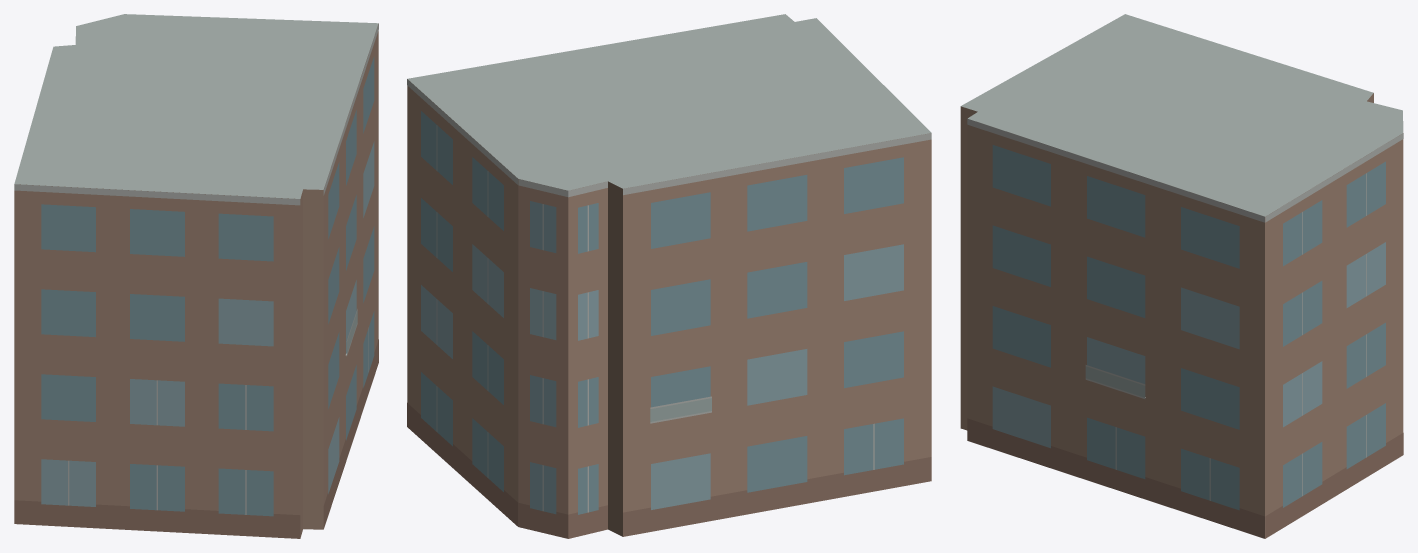
The model's file is survey-upis-32847277.glb.
The picture shows the model from 3 angles, left to right: view 1: azimuth 30°, elevation 25°; view 2: azimuth 150°, elevation 25°; view 3: azimuth 270°, elevation 25°; orthographic projection. The views are drawn at different scales.
Parts seen in each view (by area): view 1: survey-upis-32847277.tmp; view 2: survey-upis-32847277.tmp; view 3: survey-upis-32847277.tmp.
Part boxes in pixels (x1,y1,x2,y2): survey-upis-32847277.tmp: (14, 14, 378, 538); survey-upis-32847277.tmp: (407, 14, 931, 538); survey-upis-32847277.tmp: (960, 14, 1403, 538).
Size of the model in its own units: 17.55 by 13 by 16.21.
